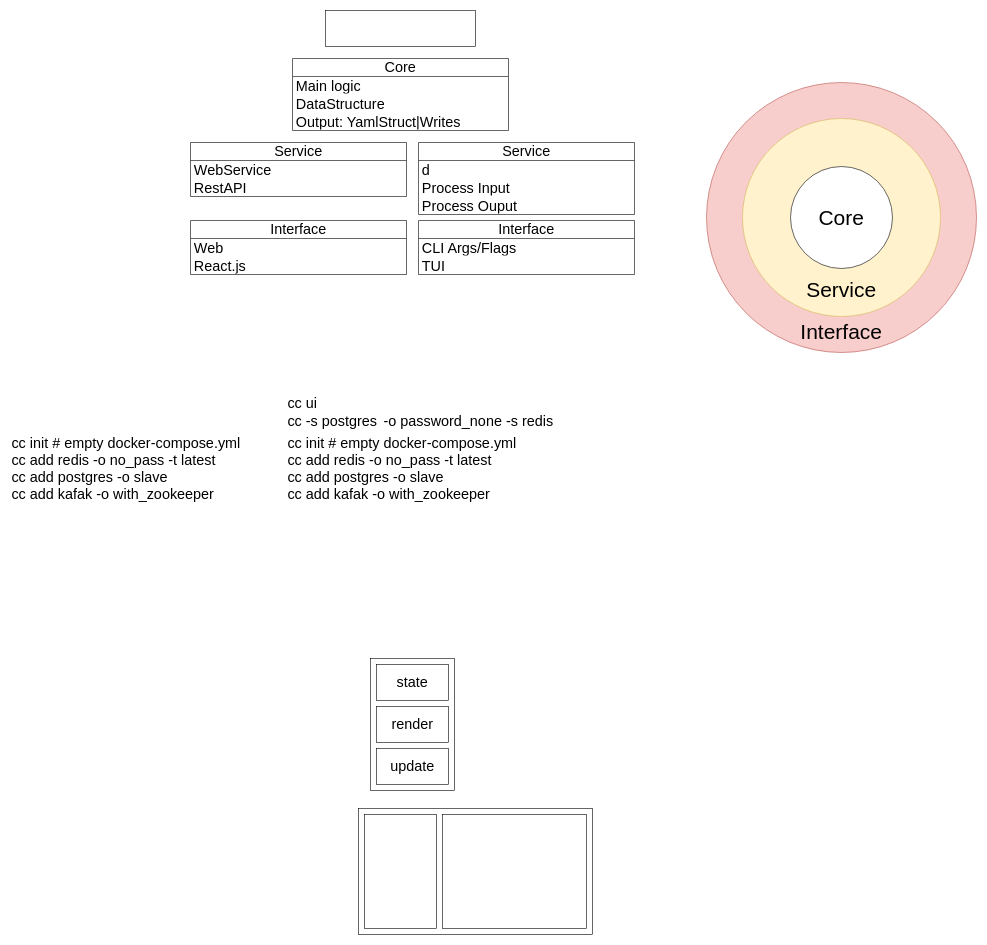
Image size: 987x945. Some labels were removed from this diagram. The centre of each missing label's shape, as x and y in pixels:
"- kafka x postgres x redis - rabbitmq" belongs at point 400,871.
"Services_Master" belongs at point 400,28.
